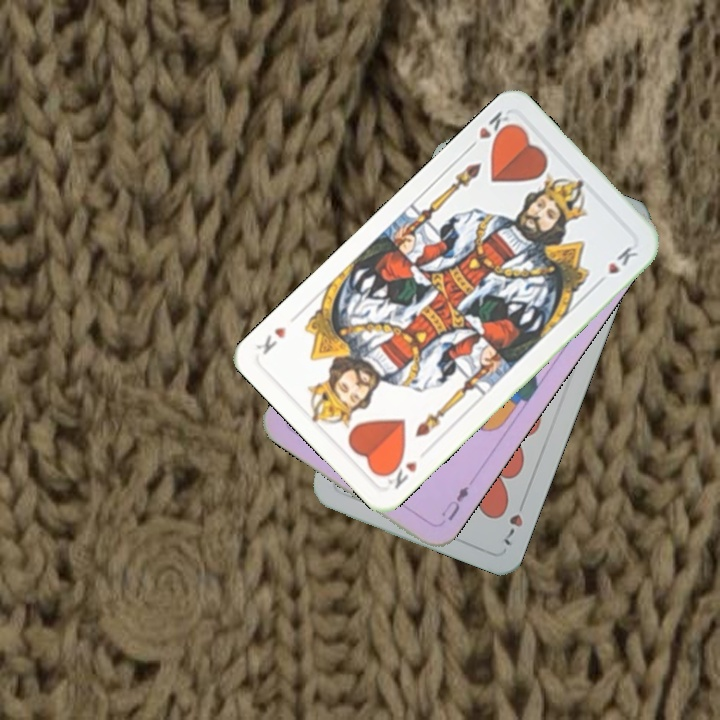EU: (437, 481, 472, 524)
H7: (498, 494, 529, 549)
HK: (463, 107, 517, 153), (379, 452, 420, 492)
